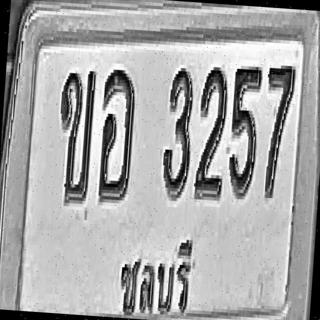A02: (54, 67, 96, 206)
A43: (96, 67, 137, 202)
N02: (193, 63, 230, 201)
N03: (160, 64, 195, 198)
N05: (226, 62, 263, 200)
N07: (259, 61, 296, 199)
P13: (112, 232, 198, 320)
